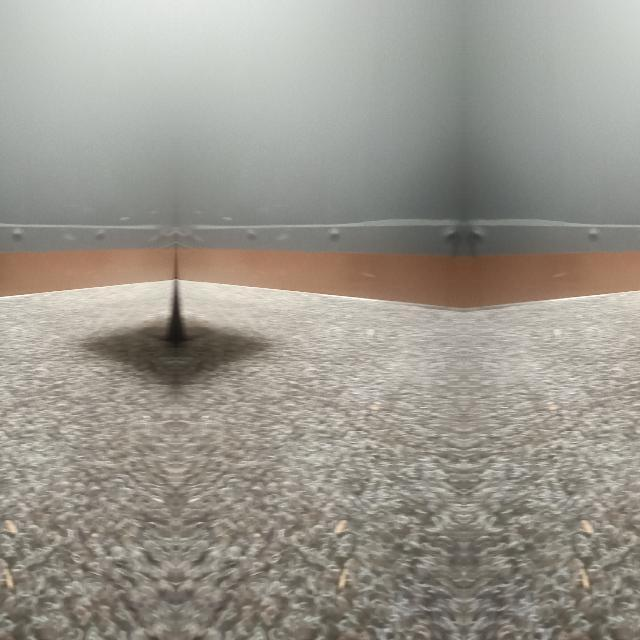obstacle: (174, 42, 463, 300), (463, 42, 640, 300), (0, 42, 175, 300)
